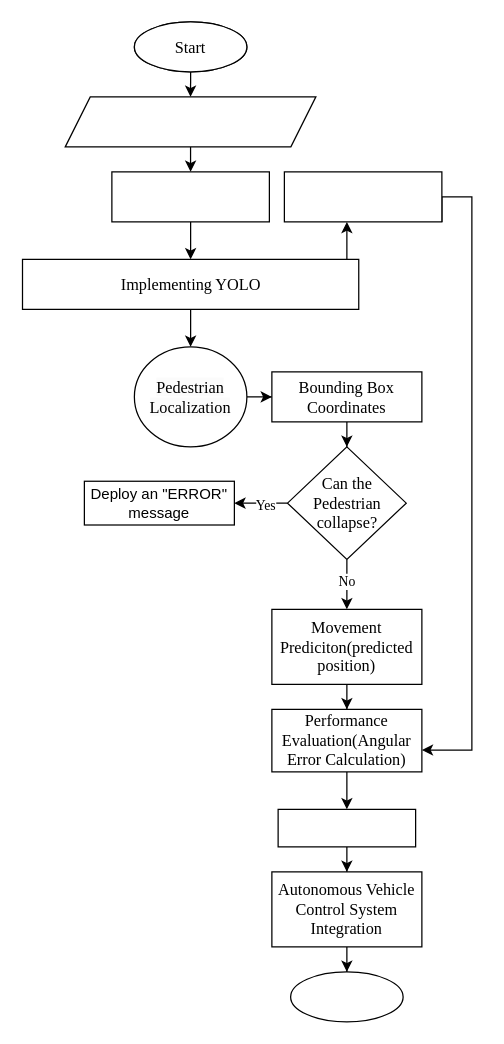
Some shapes in this 504 by 1044 pixel diagram are drawn without their labels. Each missing label, with the box of its shape:
Actual Position: (283, 171, 442, 222)
Data Preprocessing: (111, 171, 269, 222)
Input Data(Video Frames): (64, 96, 316, 147)
Stop: (289, 971, 403, 1022)
System Optimization: (277, 808, 416, 847)
